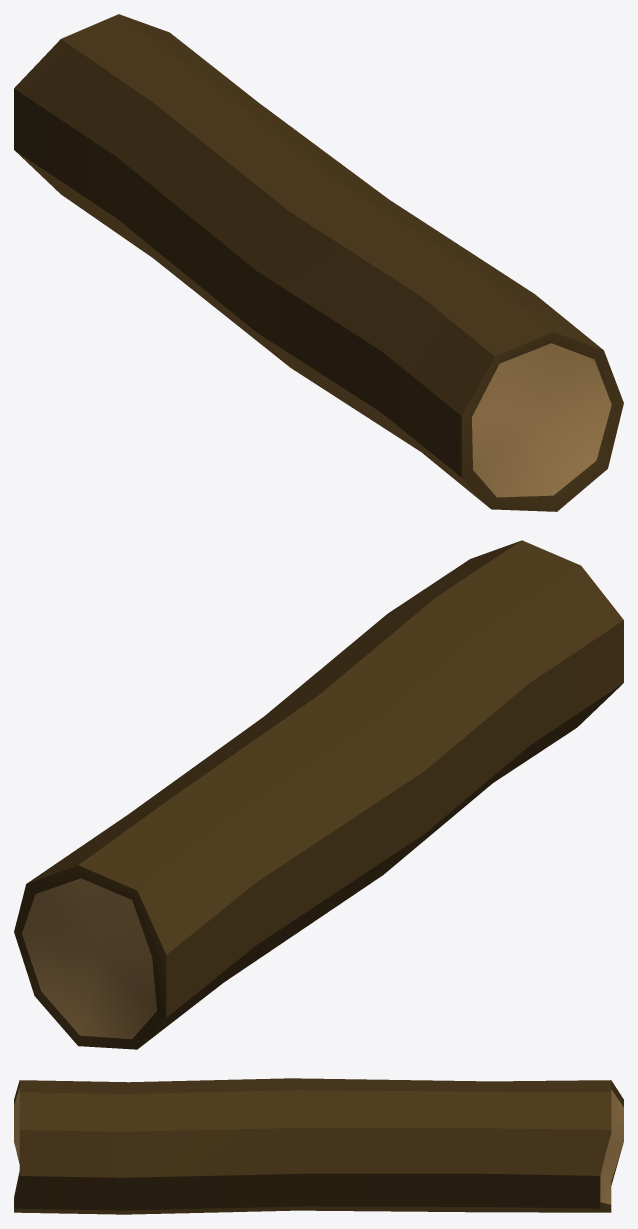
File: TreeLog.fbx
3 renders of one model, top to bottom at view 1: azimuth 30°, elevation 25°; view 2: azimuth 150°, elevation 25°; view 3: azimuth 270°, elevation 25°, orthographic. The views are drawn at different scales.
Parts seen in each view (by area): view 1: TreeLog; view 2: TreeLog; view 3: TreeLog.
Part boxes in pixels (x1,y1,x2,y2): TreeLog: (14,14,623,511); TreeLog: (14,540,623,1049); TreeLog: (14,1078,623,1214).
Bounding box in the file's own units: 28.27 × 26.96 × 124.
